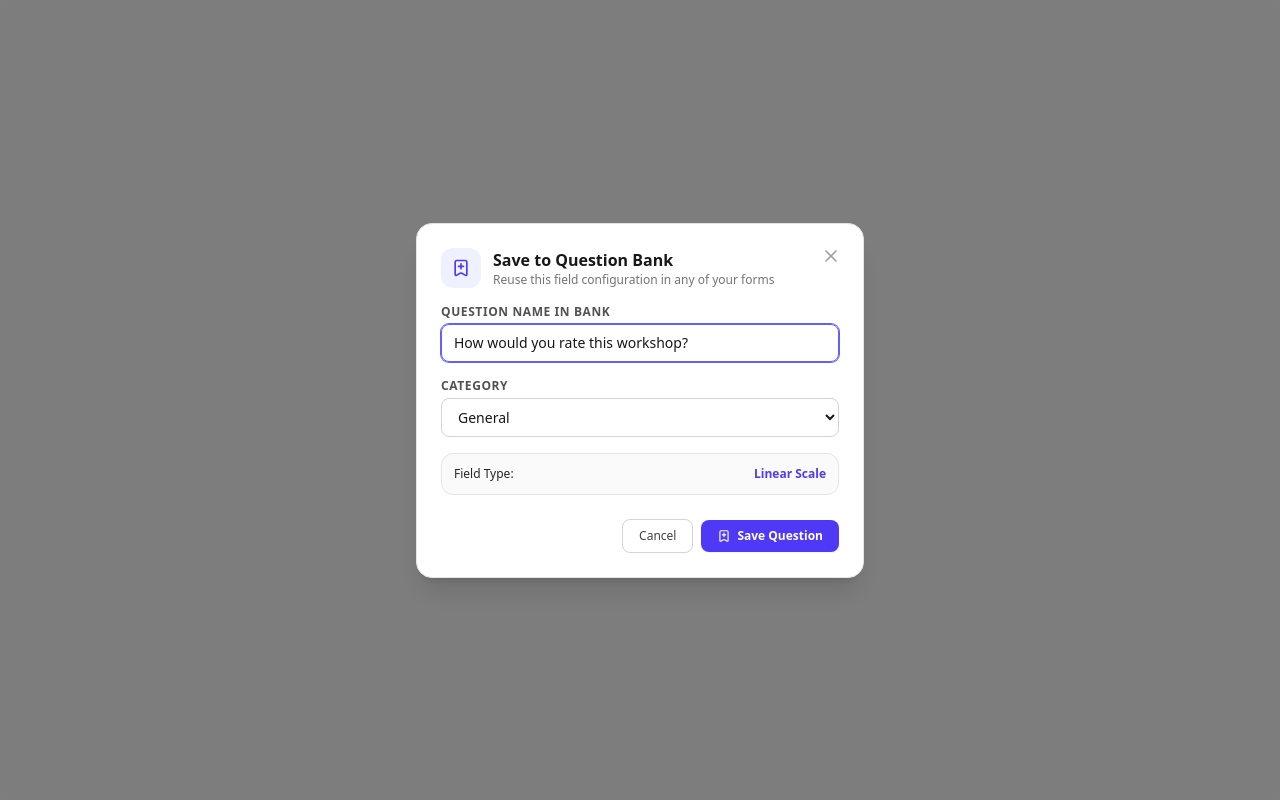
Test: SaveQuestionModal › renders with field details and allows saving to Question Bank
Expected: the heading "Save to Question Bank" is shown, [493,248,673,270]
Expected: the field showing "How would you rate this workshop?" is shown, [441,324,839,362]
Click the button "Save Question" at (770, 536), box [701,520,839,552]
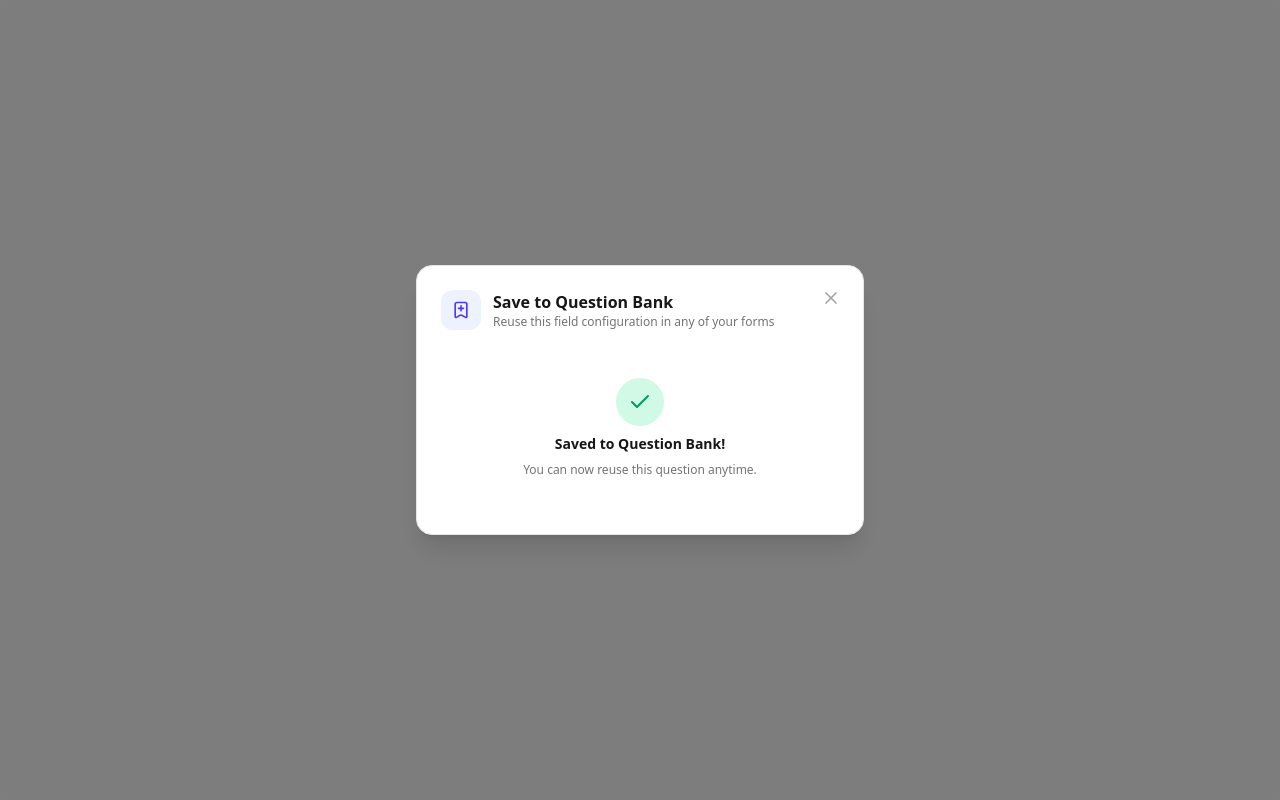
Now the text "Saved to Question Bank!" is shown, box [555,434,725,453]
